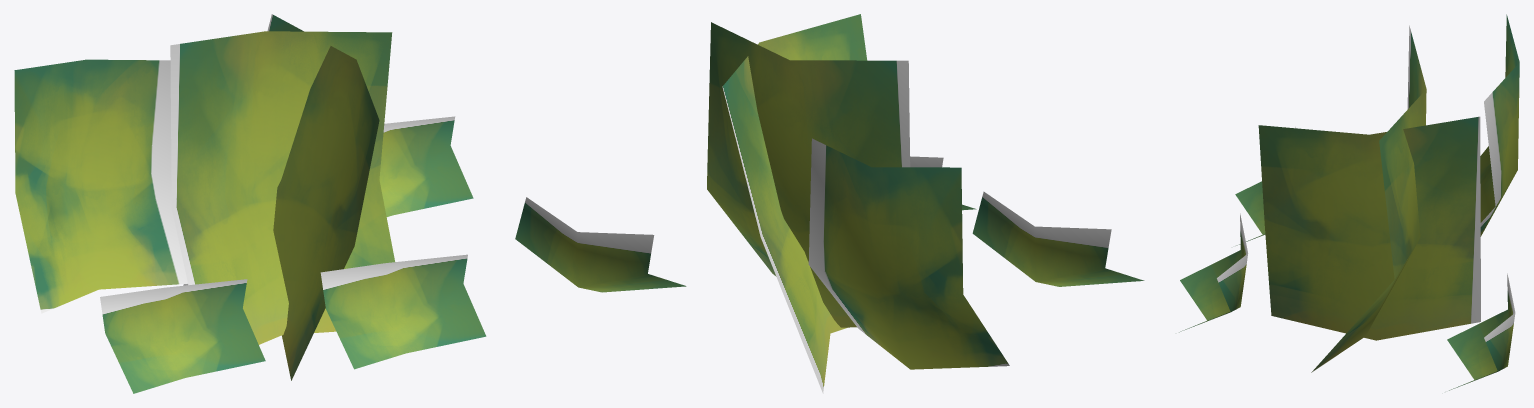
The model's file is S_Algues_01.fbx.
3 views of the same model, side by side, from view 1: azimuth 30°, elevation 25°; view 2: azimuth 150°, elevation 25°; view 3: azimuth 270°, elevation 25° (orthographic). The views are drawn at different scales.
Parts seen in each view (by area): view 1: S_Algues_01; view 2: S_Algues_01; view 3: S_Algues_01.
Part boxes in pixels (box(x1,y1,x2,y2)): S_Algues_01: box(14, 14, 486, 393); S_Algues_01: box(515, 14, 1144, 393); S_Algues_01: box(1179, 14, 1519, 390).
Size of the model in its own units: 288 by 179 by 203.
